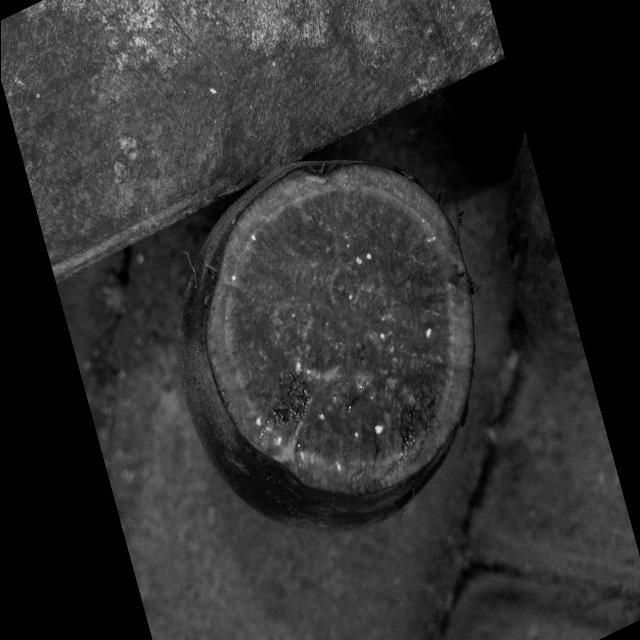Healthy Sweet Potato: (205, 163, 474, 495)
